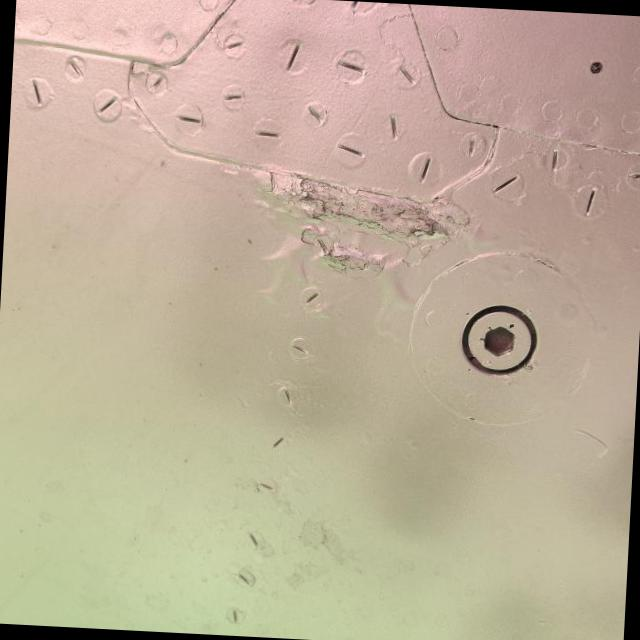Paint-off: (253, 172, 468, 274)
